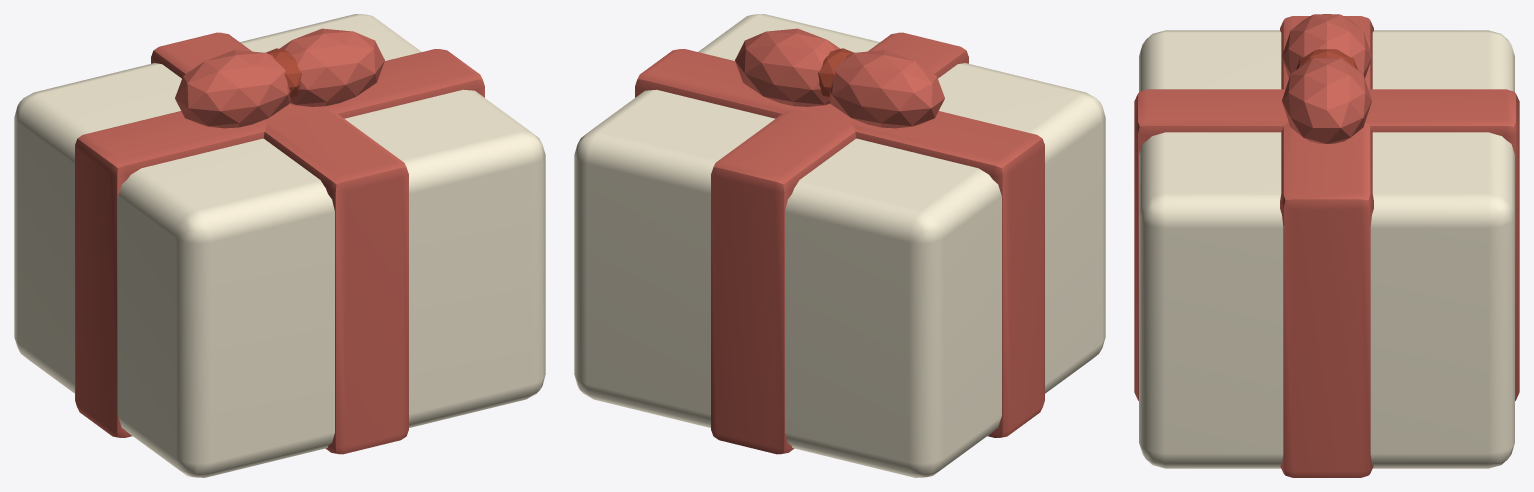
Rendered from prop_present.glb.
3 views of the same model, side by side, from view 1: azimuth 30°, elevation 25°; view 2: azimuth 150°, elevation 25°; view 3: azimuth 270°, elevation 25° (orthographic). The views are drawn at different scales.
Parts seen in each view (by area): view 1: present_box, present_ribbon_x, present_ribbon_z, present_bow_l, present_bow_r, present_bow_c; view 2: present_box, present_ribbon_x, present_ribbon_z, present_bow_l, present_bow_r, present_bow_c; view 3: present_box, present_ribbon_z, present_ribbon_x, present_bow_r, present_bow_l, present_bow_c.
Boxes of the visible parts, x1,y1,x2,y2 form: present_box: (14,14,545,477); present_ribbon_x: (151,32,408,454); present_ribbon_z: (75,49,484,437); present_bow_l: (175,50,290,128); present_bow_r: (279,28,384,106); present_bow_c: (265,48,301,98); present_box: (574,14,1105,477); present_ribbon_x: (711,32,968,454); present_ribbon_z: (635,49,1044,437); present_bow_l: (829,50,944,128); present_bow_r: (735,28,840,106); present_bow_c: (818,48,854,98); present_box: (1139,30,1514,468); present_ribbon_z: (1280,16,1373,477); present_ribbon_x: (1134,89,1519,400); present_bow_r: (1282,58,1371,143); present_bow_l: (1282,14,1371,78); present_bow_c: (1296,49,1357,69).
Size of the model in its own units: 0.47 by 0.4065 by 0.41.
